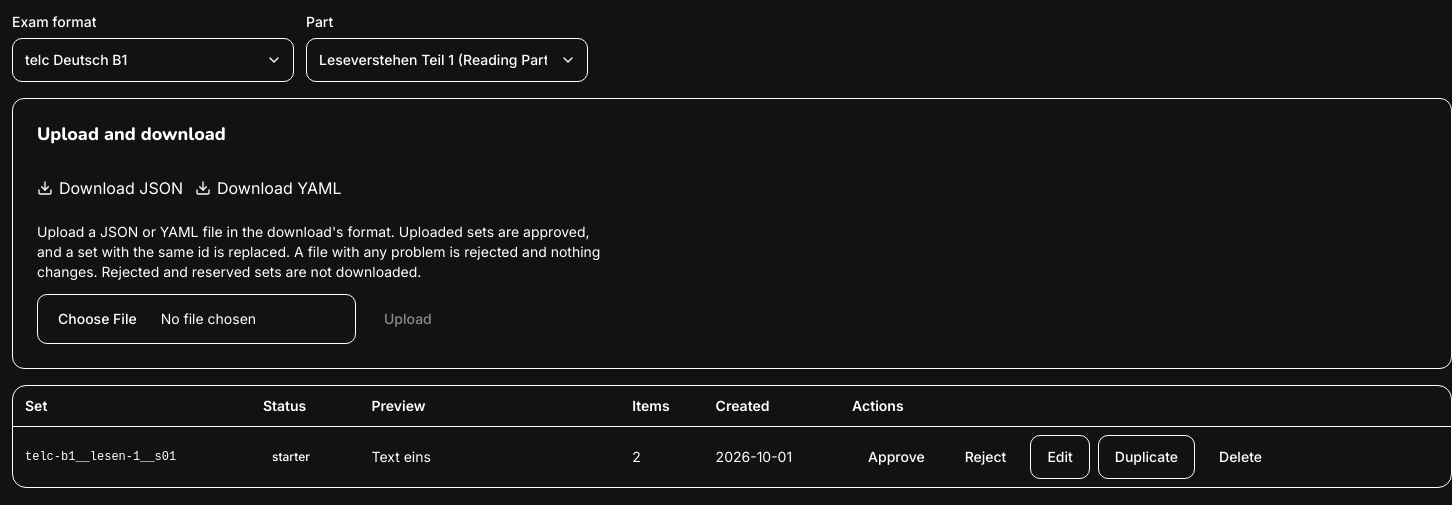
Test case: ExamPracticeAdmin › offers downloads for the chosen part and reloads when the part changes
This screenshot has width=1452, height=505.
expect the text "telc-b1__lesen-1__s01" is shown: met, box [13,426,251,486]
Select "Leseverstehen Teil 2 (Reading Part 2) (2 items)" in the dropdown labelled "Part" at (447, 60), box [306,38,588,82]
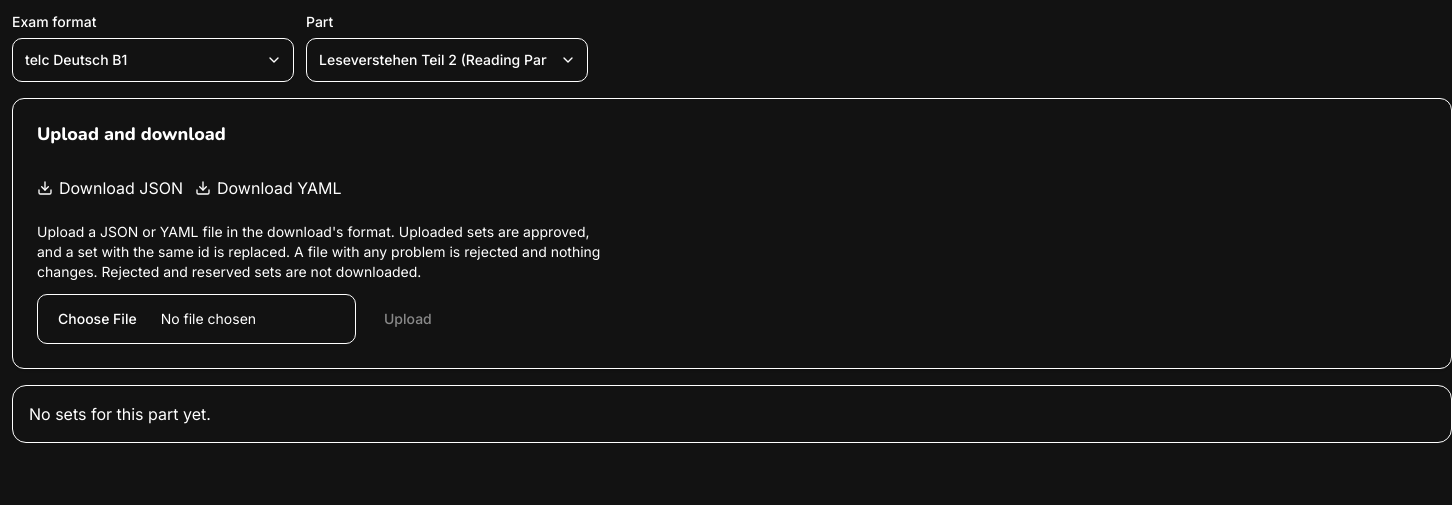
expect the text "No sets for this part yet." is shown: met, box [12,384,1451,442]
